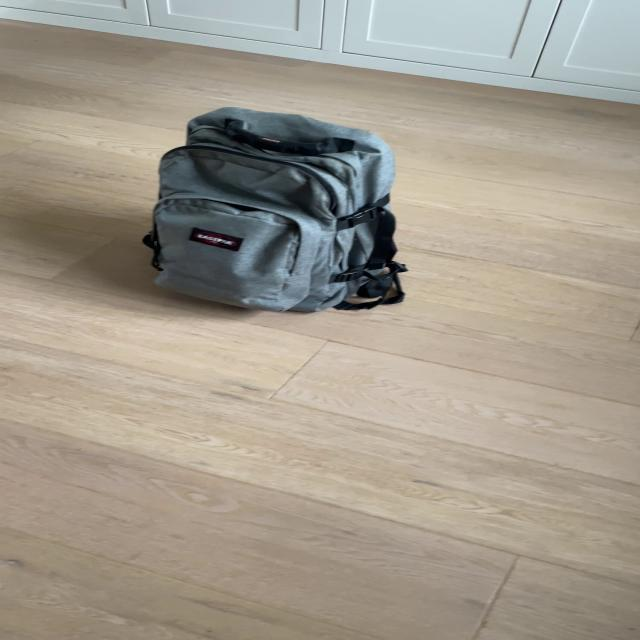backpack: (136, 96, 411, 321)
